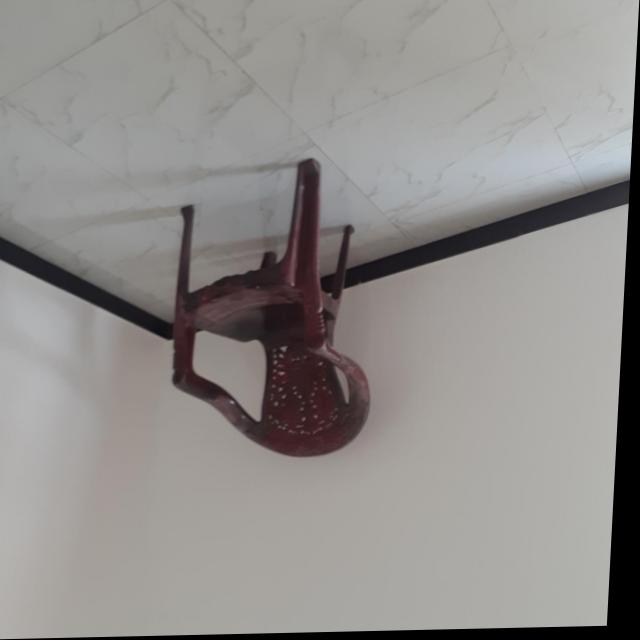Chair: (168, 154, 384, 462)
